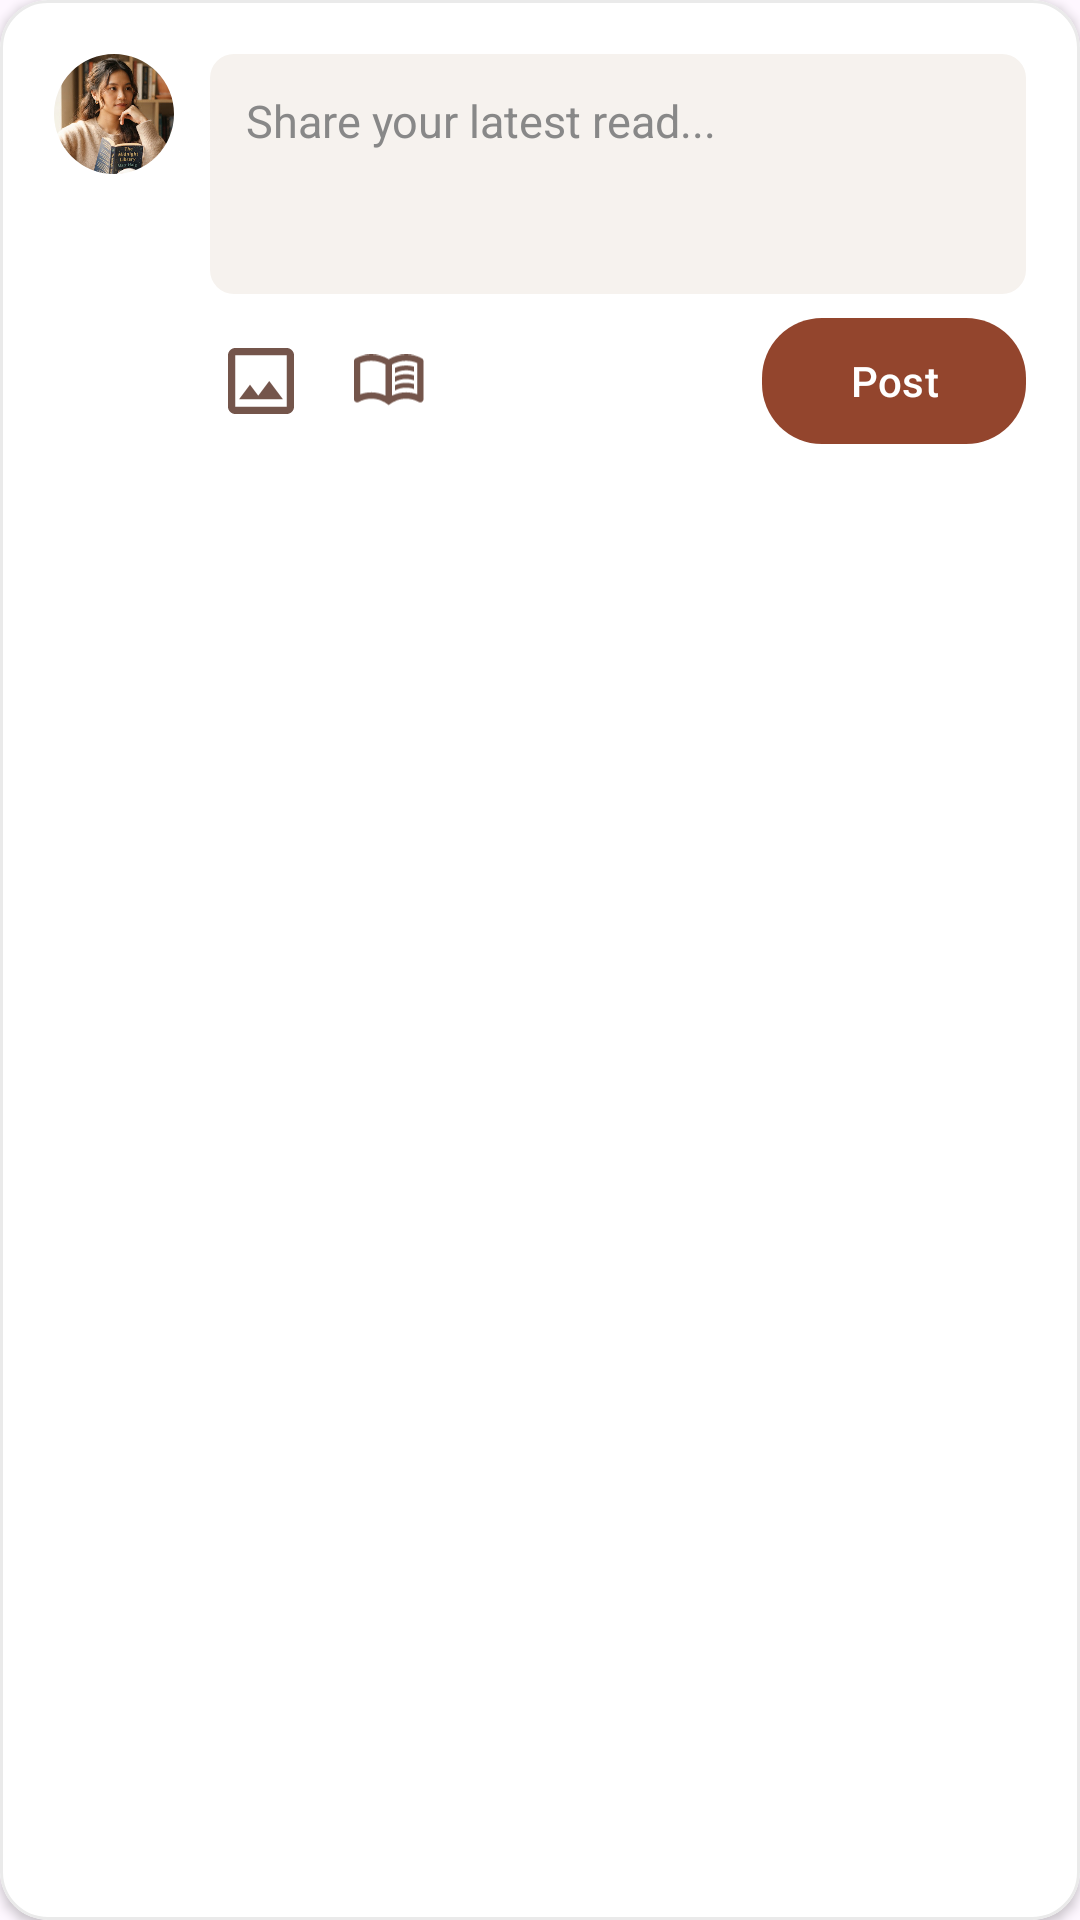

Where icons sit on this 1080px x 1920px app screen, as (x1, y1, x2, y2):
book: (354, 354, 424, 406)
